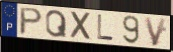9: (121, 15, 141, 45)
L: (97, 14, 115, 42)
P: (19, 6, 45, 36)
Q: (44, 9, 68, 39)
V: (142, 16, 168, 47)
X: (70, 10, 93, 41)
